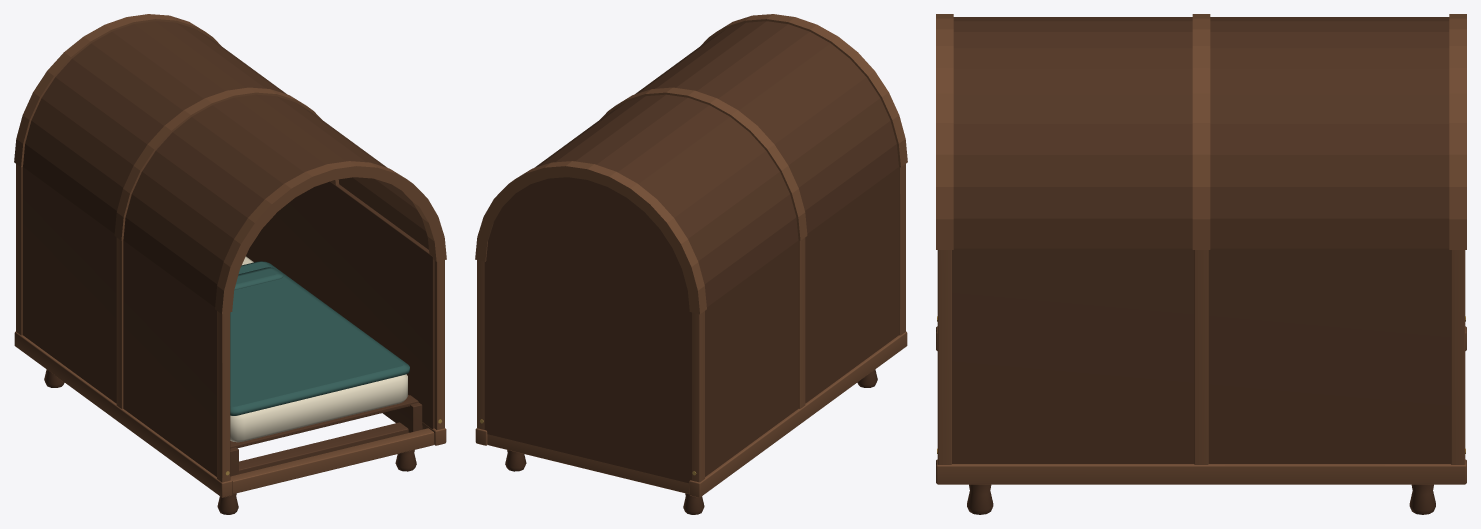
File: rpg-mansion-barrel-vault-enclosed-bed-01.glb
The picture shows the model from 3 angles, left to right: view 1: azimuth 30°, elevation 25°; view 2: azimuth 150°, elevation 25°; view 3: azimuth 270°, elevation 25°; orthographic projection. The views are drawn at different scales.
Parts seen in each view (by area): view 1: rpg-mansion-barrel-vault-enclosed-bed-01; view 2: rpg-mansion-barrel-vault-enclosed-bed-01; view 3: rpg-mansion-barrel-vault-enclosed-bed-01.
Boxes of the visible parts, x1=… form: rpg-mansion-barrel-vault-enclosed-bed-01: x1=14, y1=14, x2=446, y2=514; rpg-mansion-barrel-vault-enclosed-bed-01: x1=475, y1=14, x2=907, y2=514; rpg-mansion-barrel-vault-enclosed-bed-01: x1=936, y1=14, x2=1466, y2=514.
Size of the model in its own units: 1.4 by 1.98 by 2.24.
